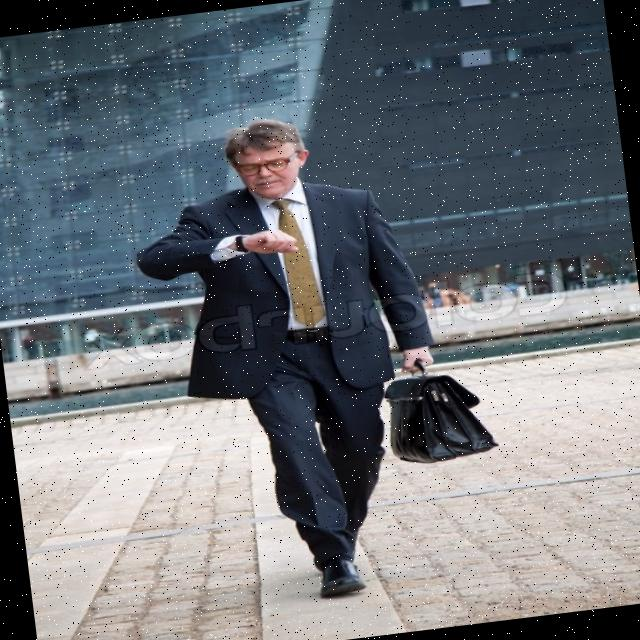Person: (124, 96, 512, 614)
